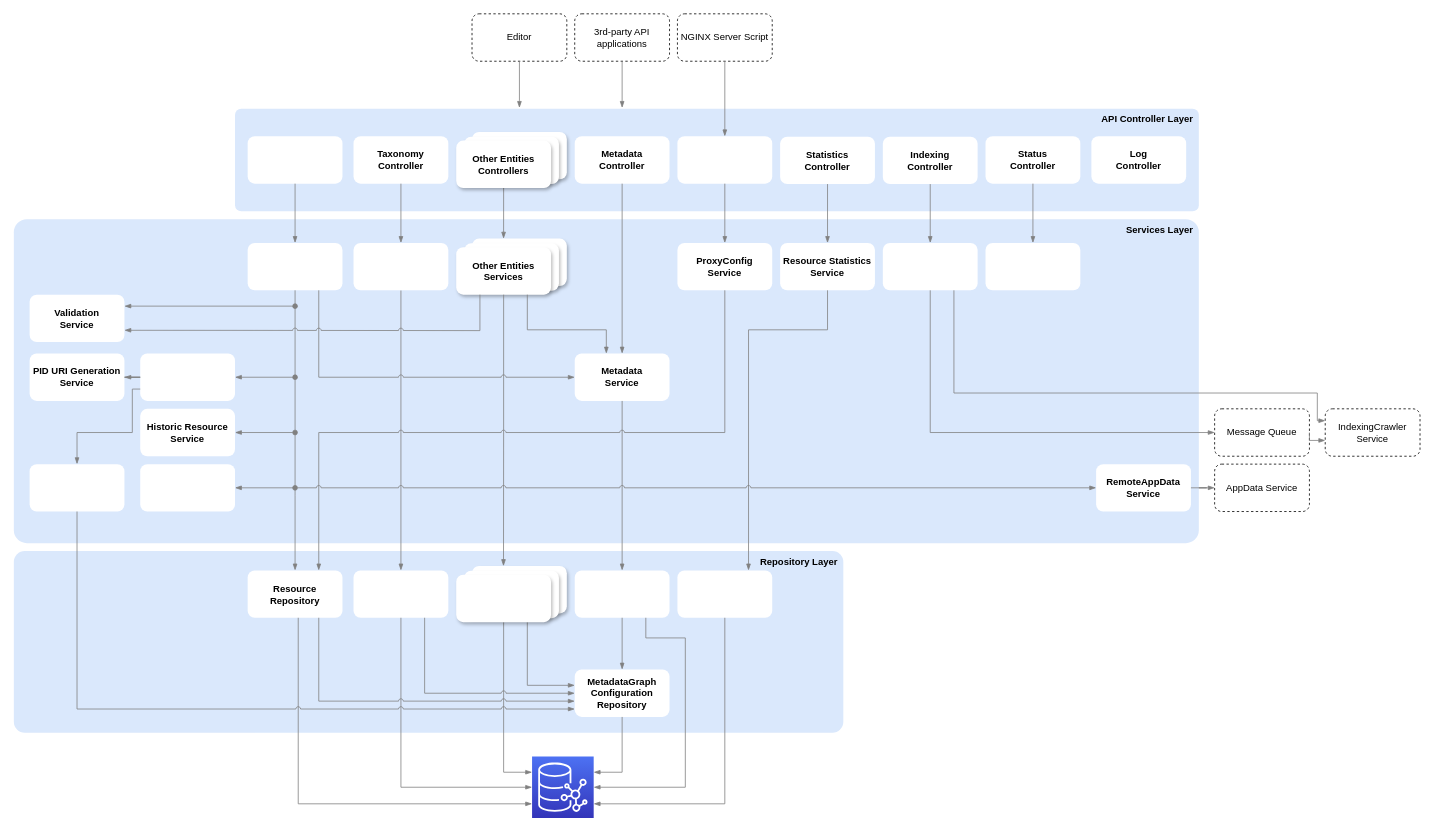
This 1434x832 diagram has some shape labels left out. The centre of each missing label's shape, as x and y in pixels:
Metadata Graph Configuration Service: point (76, 487)
Metadata Repository: point (621, 593)
Other Entities Repositories: point (504, 599)
ProxyConfig Controller: point (724, 159)
Reindexing Service: point (929, 266)
Resource Controller: point (294, 159)
Resource Preprocess Service: point (187, 377)
Resource Statistics Repository: point (724, 593)
ResourceLinking Service: point (187, 487)
ResourceService: point (294, 266)
Status Service: point (1032, 266)
Taxonomy Repository: point (400, 593)
Taxonomy Service: point (400, 266)
